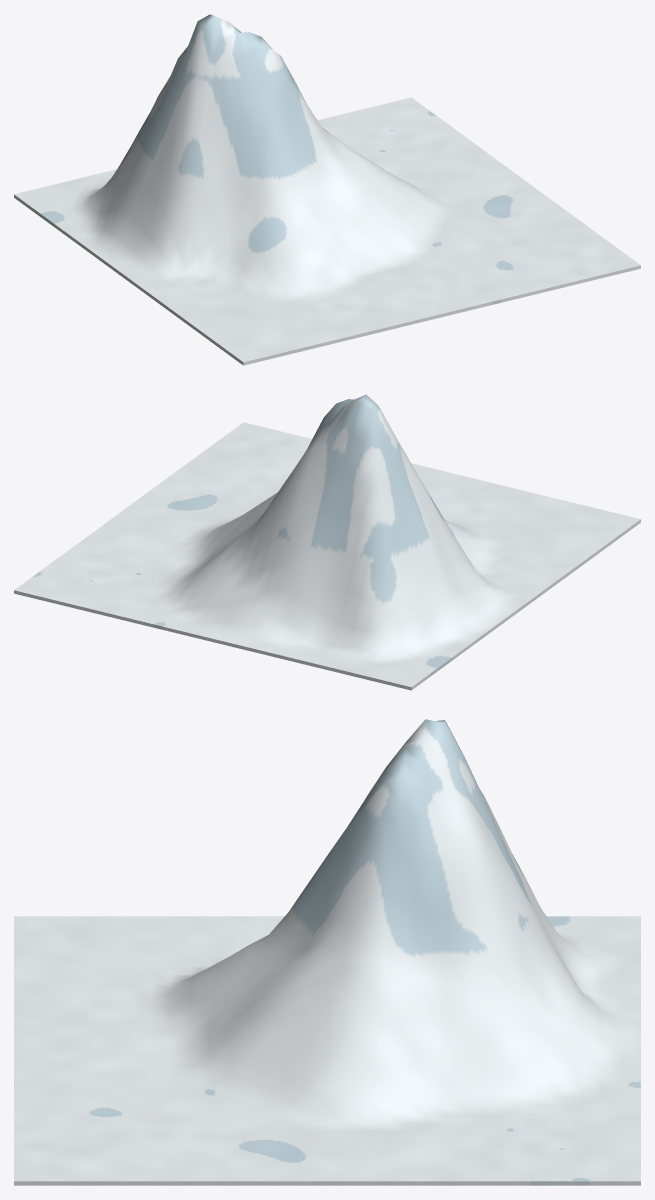
Rendered from Snow_Mountains_01.obj.
3 renders of one model, top to bottom at view 1: azimuth 30°, elevation 25°; view 2: azimuth 150°, elevation 25°; view 3: azimuth 270°, elevation 25°, orthographic. The views are drawn at different scales.
Size of the model in its own units: 10 by 5 by 10.
1 material, 1 textured.
